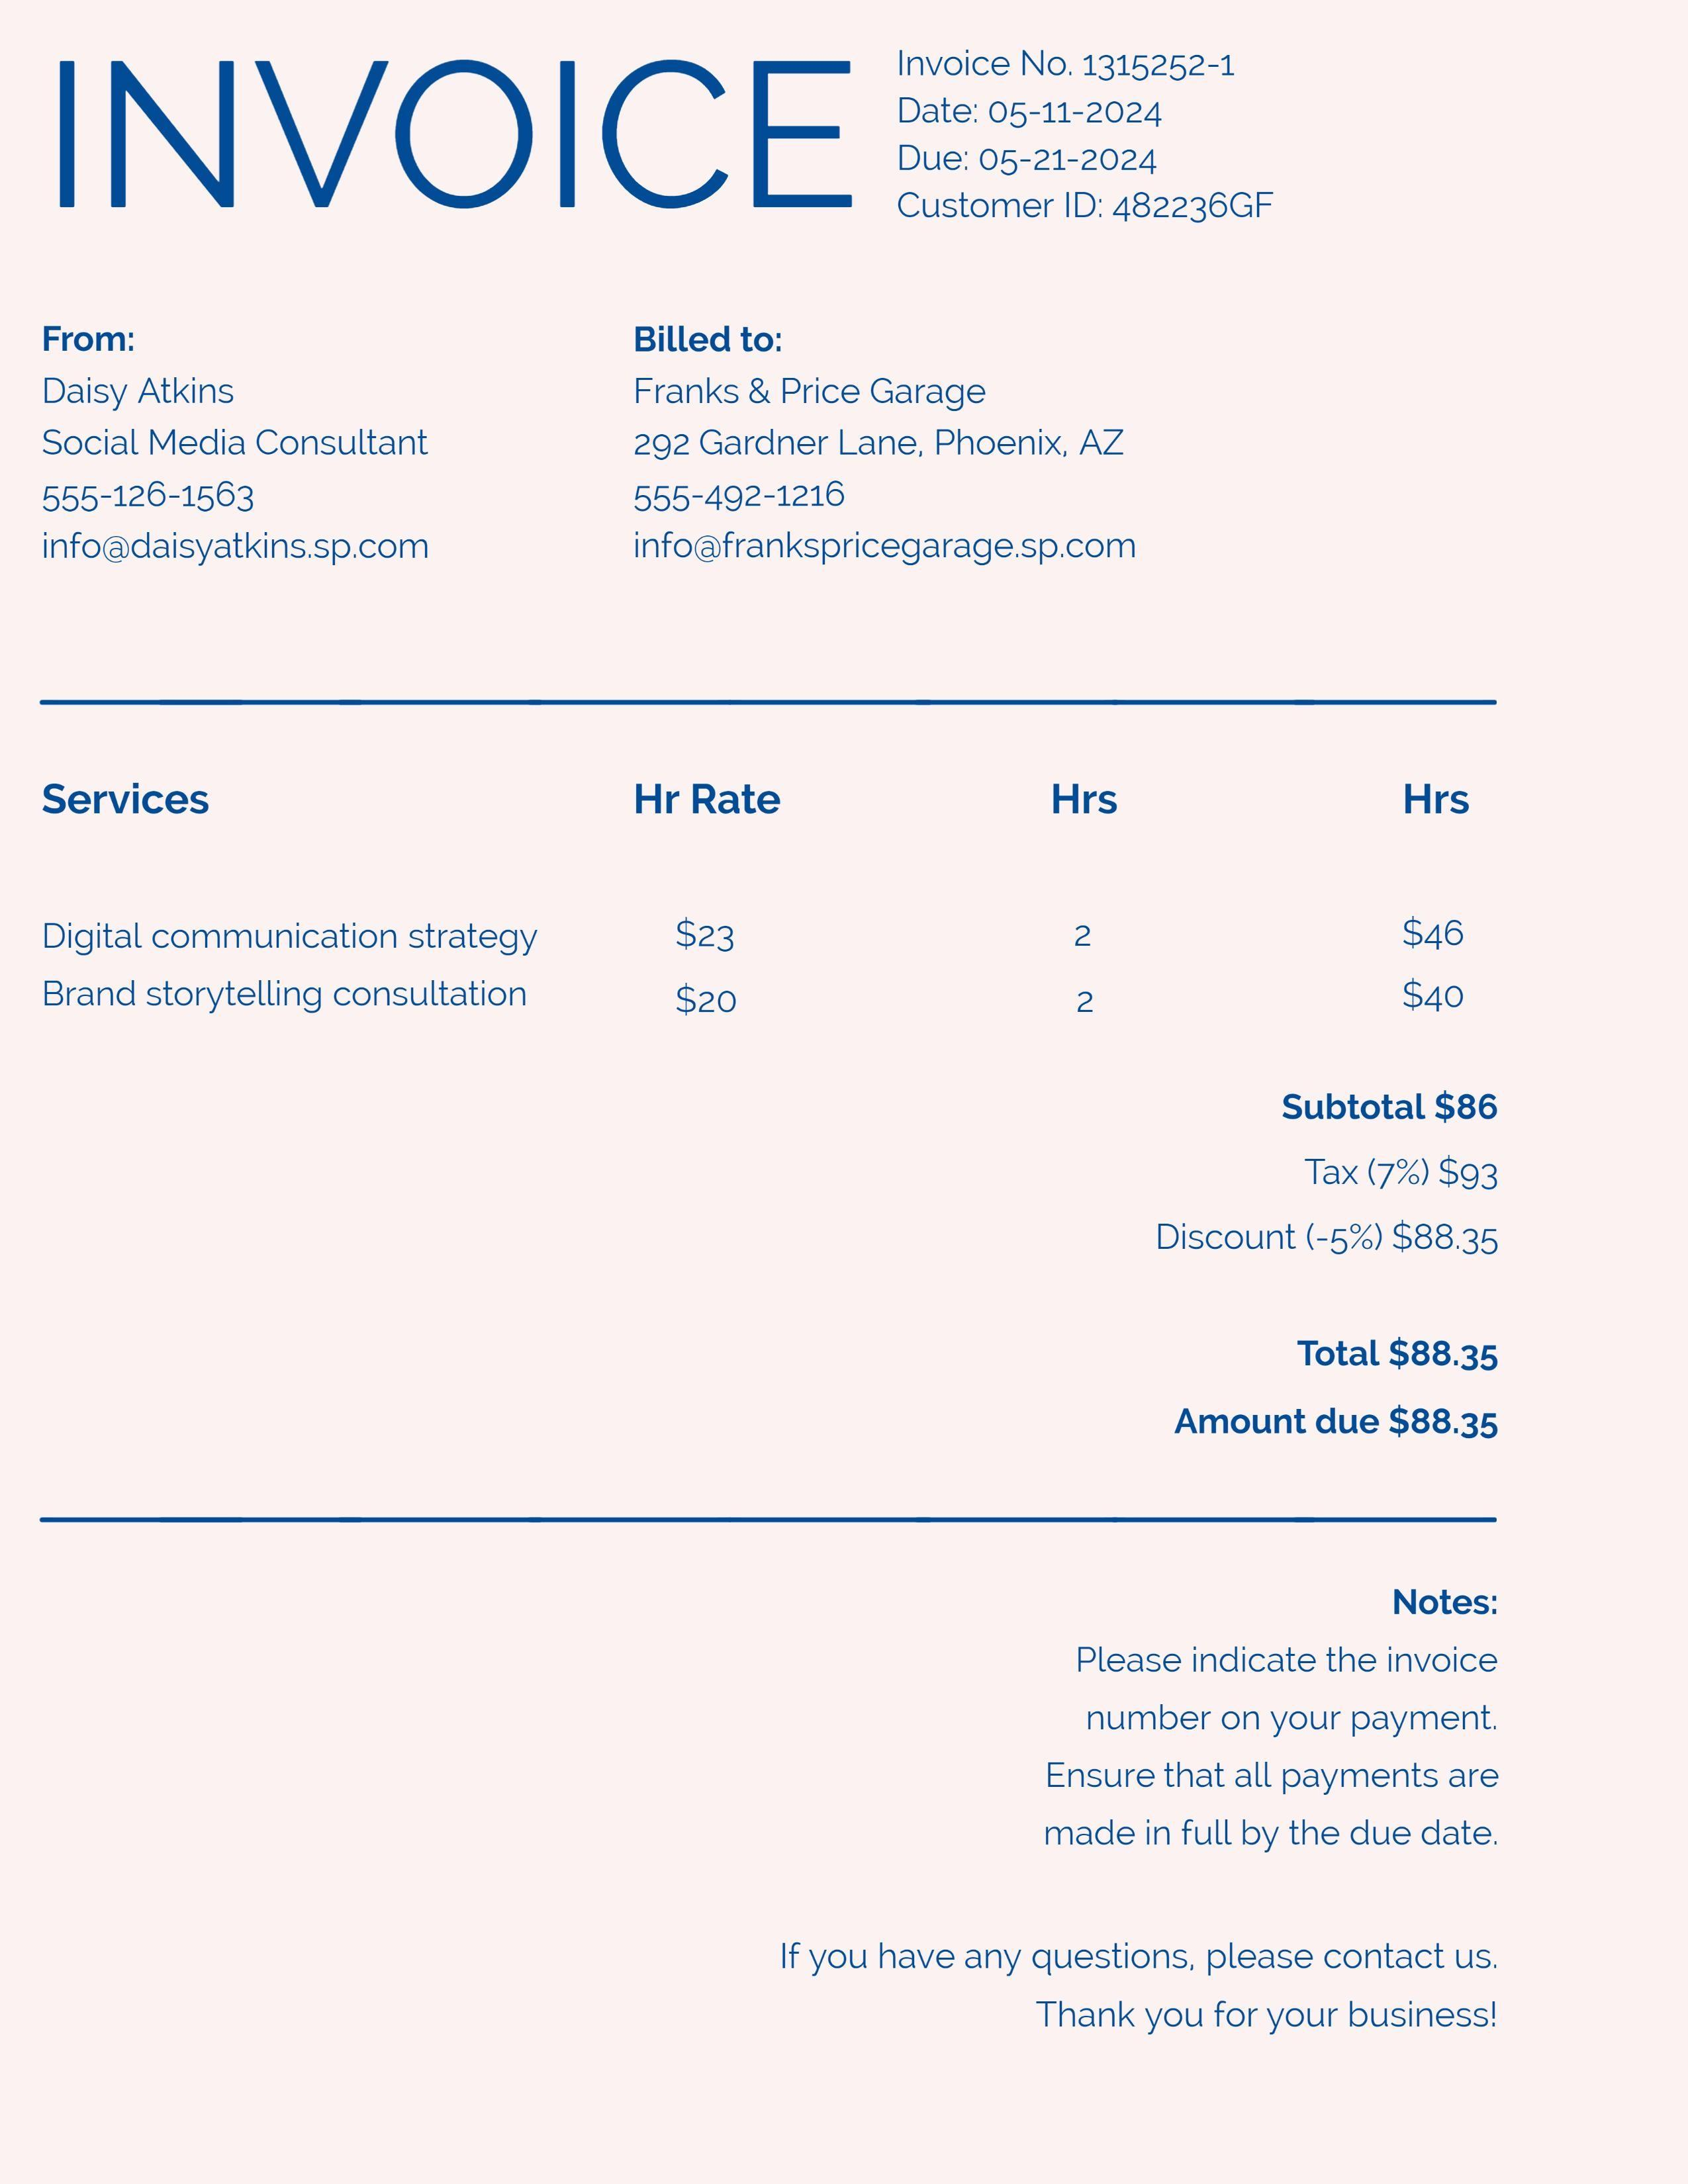ROI: (23, 725, 1509, 1035), (1102, 1066, 1534, 1469), (960, 1554, 1516, 1865), (601, 304, 1152, 592), (36, 302, 458, 587), (884, 44, 1308, 235)
